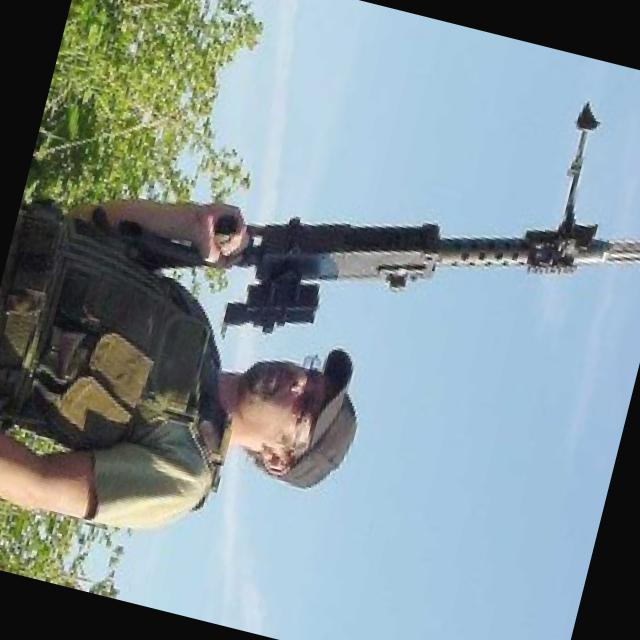long weapon: (92, 0, 639, 430)
